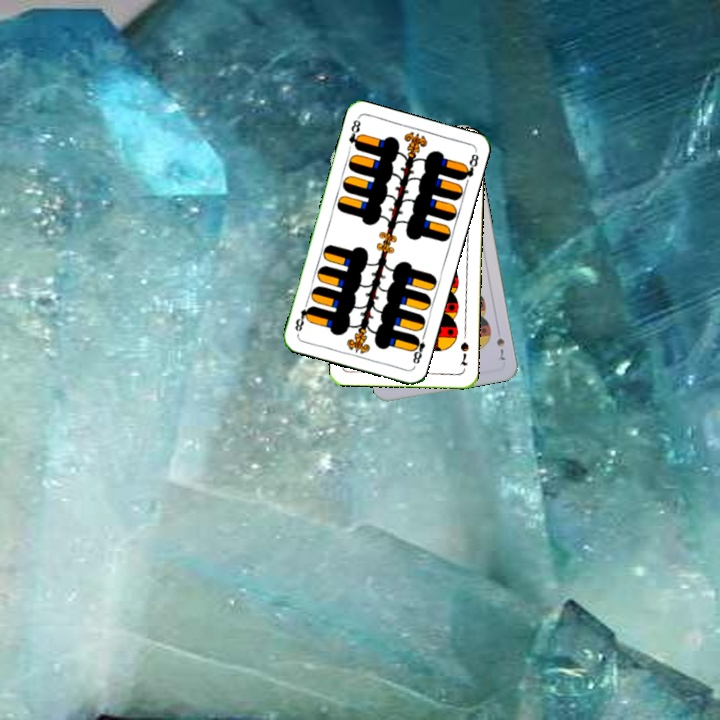E8: (407, 330, 428, 367), (344, 115, 364, 152)
S7: (492, 334, 508, 363), (456, 338, 471, 368)
